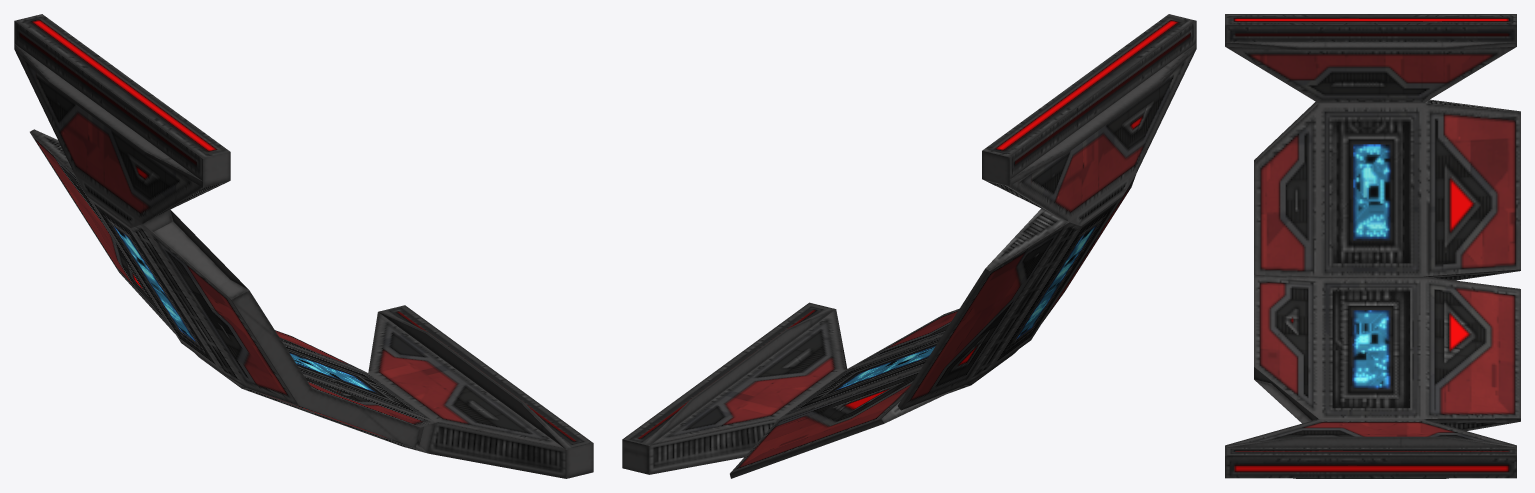
Rendered from BFP_JumpgatePanel01_LowerLeft.FBX.
3 renders of one model, left to right at view 1: azimuth 30°, elevation 25°; view 2: azimuth 150°, elevation 25°; view 3: azimuth 270°, elevation 25°, orthographic. The views are drawn at different scales.
Visible parts, largest first — view 1: GateSection03, GateSection01, GateSection02; view 2: GateSection03, GateSection01, GateSection02; view 3: GateSection03, GateSection01, GateSection02.
Part boxes in pixels (x1,y1,x2,y2): GateSection03: [30, 129, 435, 453]; GateSection01: [14, 14, 230, 223]; GateSection02: [368, 305, 593, 478]; GateSection03: [730, 173, 1136, 478]; GateSection01: [982, 14, 1196, 221]; GateSection02: [622, 302, 847, 474]; GateSection03: [1254, 99, 1520, 430]; GateSection01: [1225, 14, 1516, 103]; GateSection02: [1225, 419, 1516, 478].
Bounding box in the file's own units: 1186 × 1186 × 975.
1 material, 1 textured.
